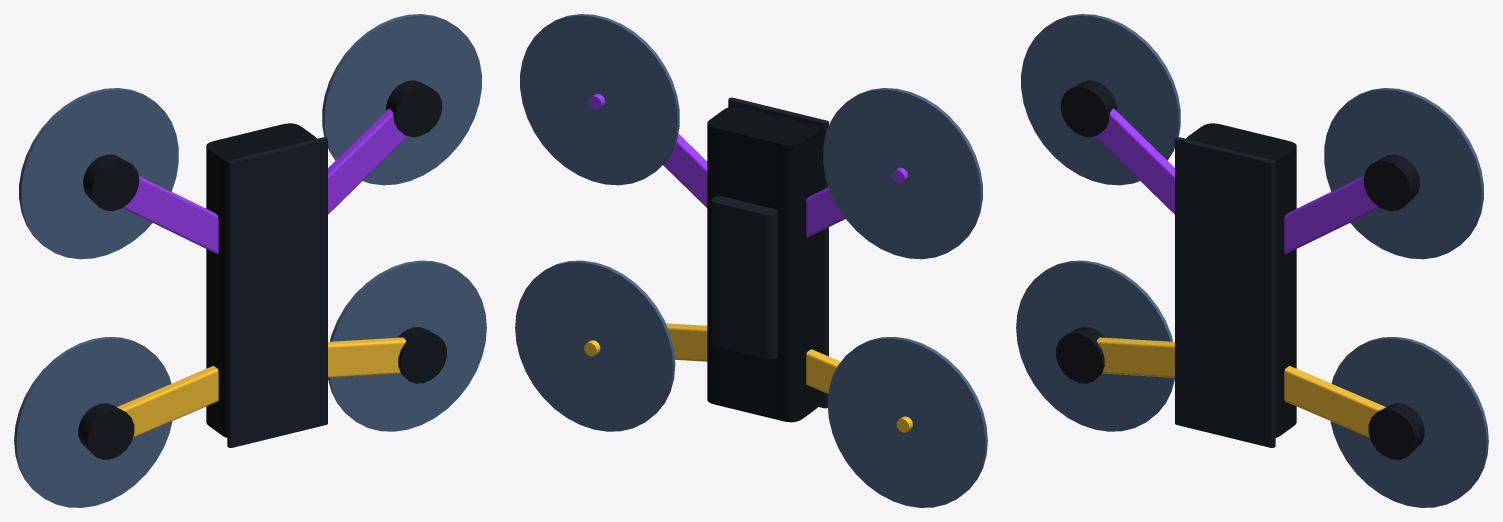
File: fpv_quadrotor.obj
3 renders of one model, left to right at view 1: azimuth 30°, elevation 25°; view 2: azimuth 150°, elevation 25°; view 3: azimuth 330°, elevation 25°, orthographic.
Parts seen in each view (by area): view 1: prop_grey_5, body_mid_1, motor_dark_3, body_dark_0, purple_metal_2, yellow_metal_6; view 2: prop_grey_5, body_dark_0, body_mid_1, purple_metal_2, yellow_metal_6; view 3: prop_grey_5, body_mid_1, motor_dark_3, body_dark_0, purple_metal_2, yellow_metal_6.
Boxes of the visible parts, bbox=[...] form: prop_grey_5: bbox=[14, 14, 486, 507]; body_mid_1: bbox=[227, 137, 327, 447]; motor_dark_3: bbox=[78, 80, 446, 459]; body_dark_0: bbox=[206, 123, 316, 437]; purple_metal_2: bbox=[123, 108, 408, 254]; yellow_metal_6: bbox=[117, 337, 405, 437]; prop_grey_5: bbox=[515, 14, 987, 507]; body_dark_0: bbox=[707, 106, 818, 422]; body_mid_1: bbox=[711, 97, 828, 408]; purple_metal_2: bbox=[588, 93, 908, 237]; yellow_metal_6: bbox=[584, 323, 912, 432]; prop_grey_5: bbox=[1016, 14, 1488, 507]; body_mid_1: bbox=[1175, 137, 1275, 447]; motor_dark_3: bbox=[1056, 80, 1424, 459]; body_dark_0: bbox=[1186, 123, 1296, 437]; purple_metal_2: bbox=[1094, 108, 1379, 254]; yellow_metal_6: bbox=[1097, 337, 1385, 437].
Bounding box in the file's own units: 0.6852 × 0.5742 × 0.1001.
